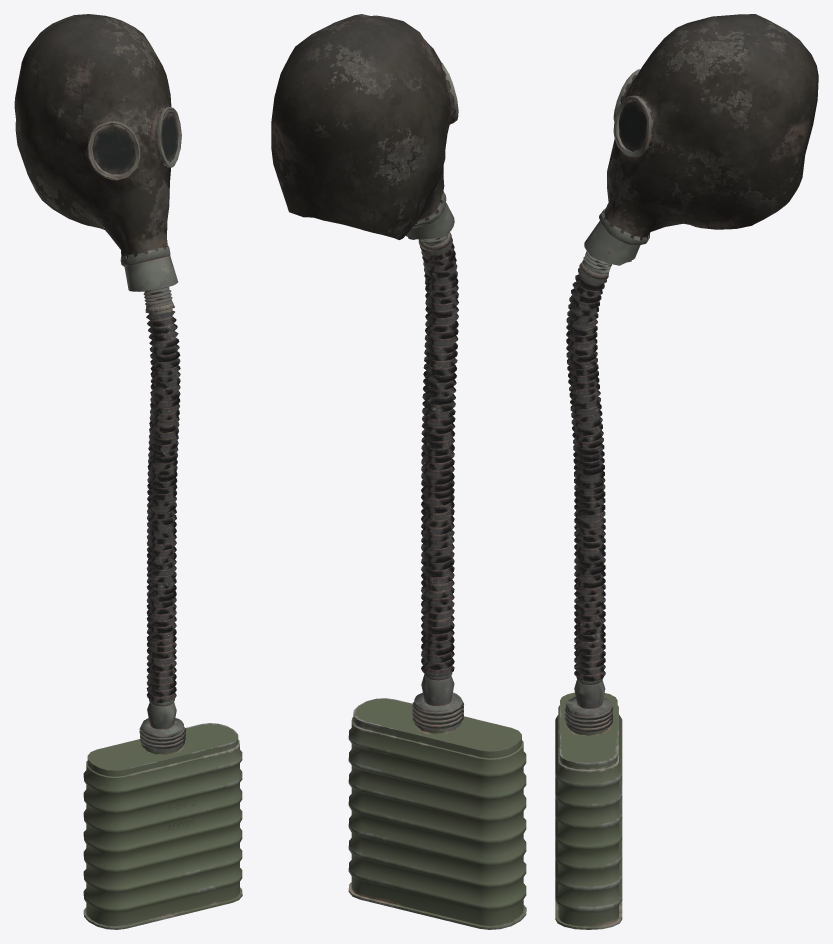
Rendered from gas_mask.glb.
3 renders of one model, left to right at view 1: azimuth 30°, elevation 25°; view 2: azimuth 150°, elevation 25°; view 3: azimuth 270°, elevation 25°, orthographic. The views are drawn at different scales.
Visible parts, largest first — view 1: old_gas_mask; view 2: old_gas_mask; view 3: old_gas_mask.
Boxes of the visible parts, bbox=[...] form: old_gas_mask: bbox=[14, 14, 242, 929]; old_gas_mask: bbox=[271, 14, 526, 929]; old_gas_mask: bbox=[555, 14, 818, 929].
Size of the model in its own units: 0.2105 by 1.13 by 0.3087.
Materials: 1 (1 with a texture image).
